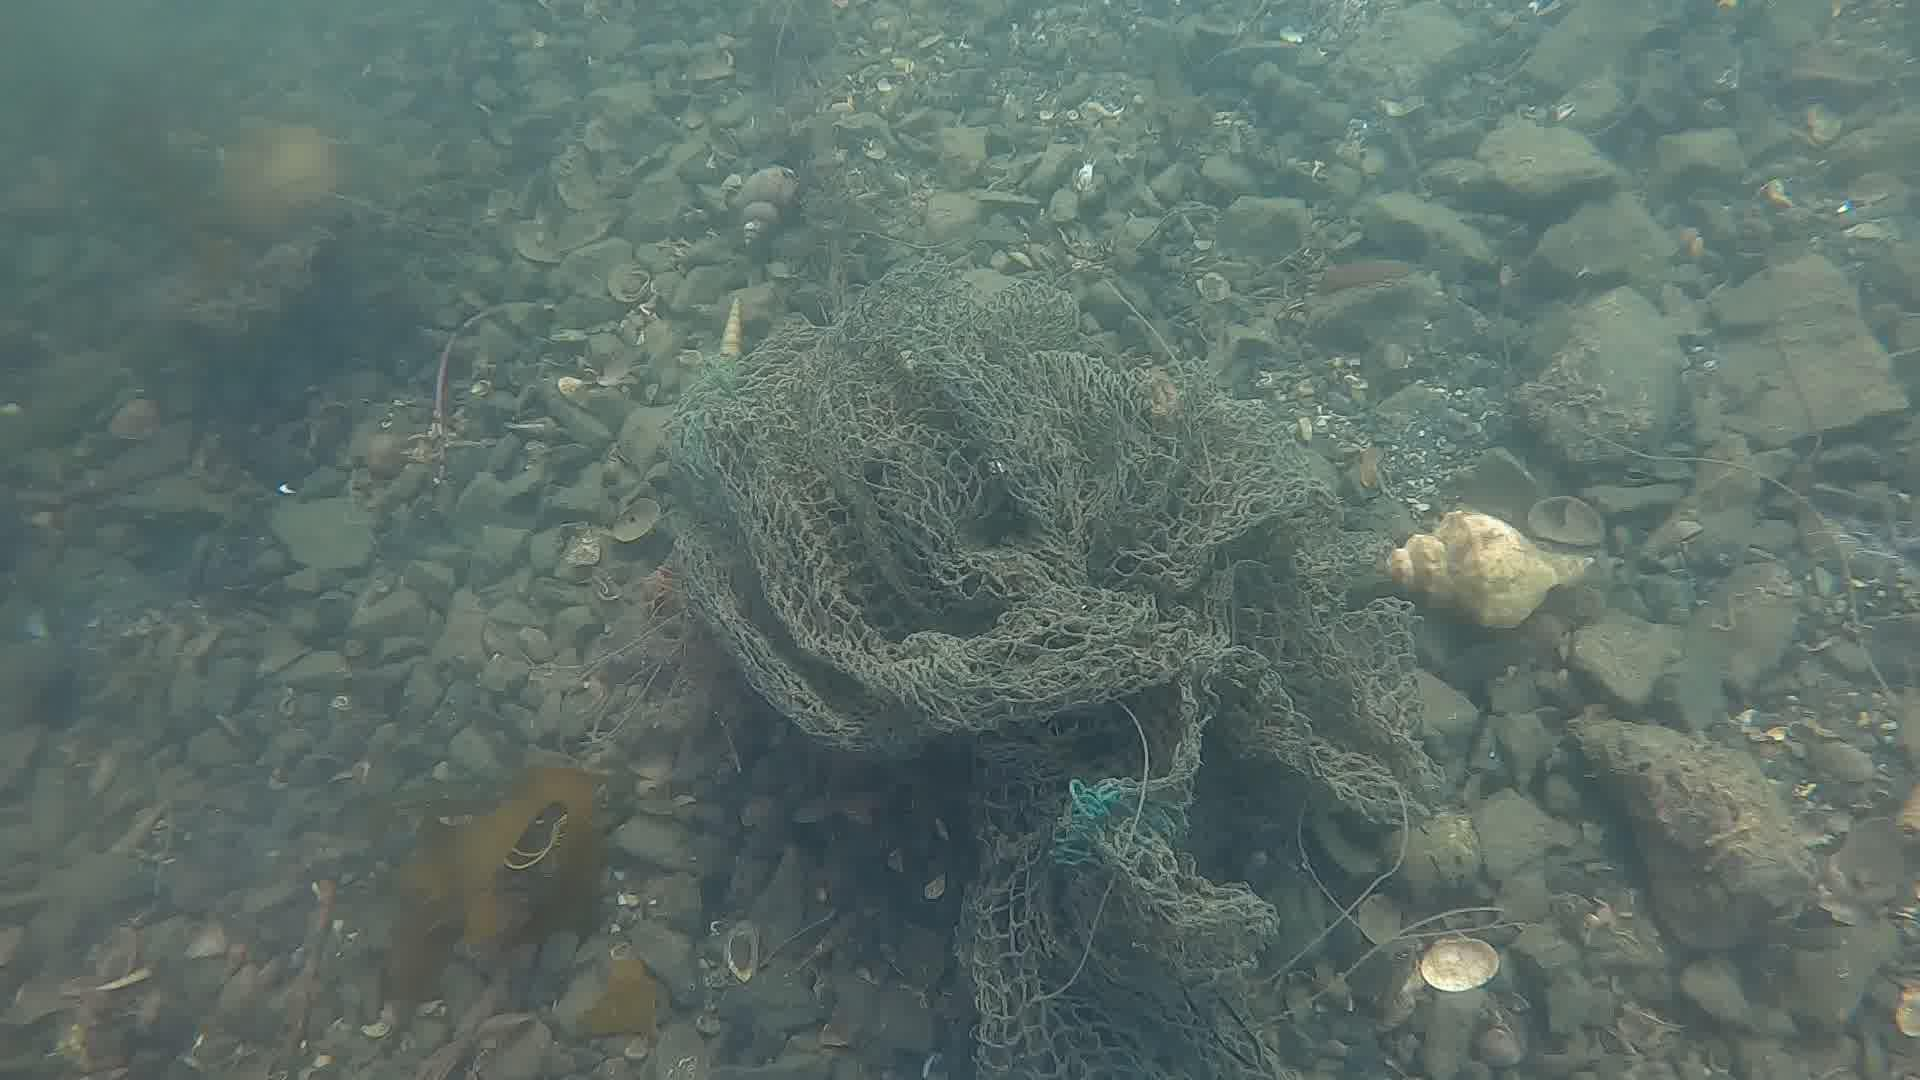fish net: (674, 253, 1424, 1079)
